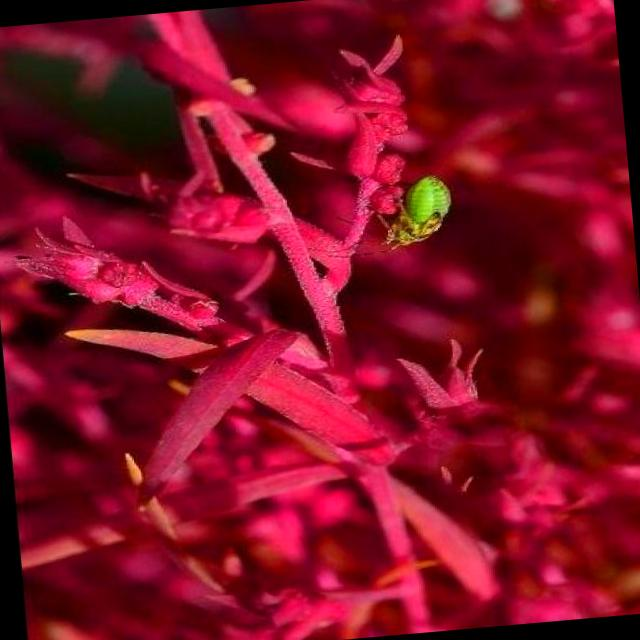aphid: (371, 168, 458, 250)
